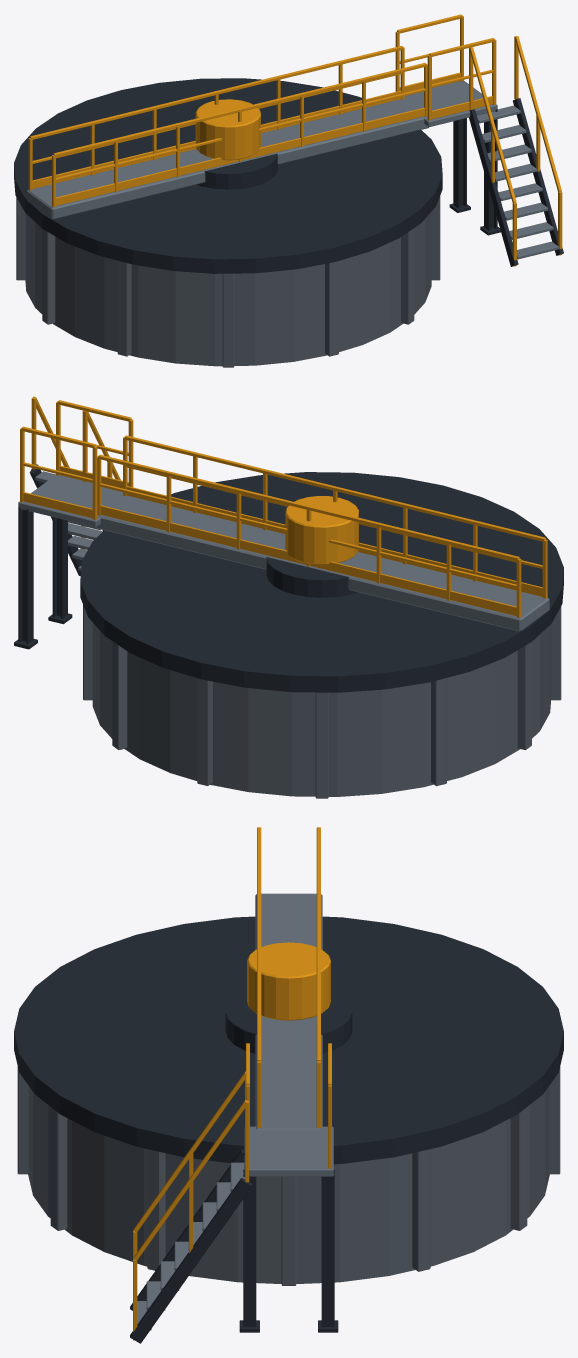
File: thickener_tk201.glb
3 renders of one model, top to bottom at view 1: azimuth 30°, elevation 25°; view 2: azimuth 150°, elevation 25°; view 3: azimuth 270°, elevation 25°, orthographic. The views are drawn at different scales.
Parts seen in each view (by area): view 1: TK201_AccessColA_BasePlate; view 2: TK201_AccessColA_BasePlate; view 3: TK201_AccessColA_BasePlate.
Boxes of the visible parts, x1=… form: TK201_AccessColA_BasePlate: x1=14, y1=14, x2=563, y2=367; TK201_AccessColA_BasePlate: x1=14, y1=396, x2=563, y2=798; TK201_AccessColA_BasePlate: x1=14, y1=827, x2=563, y2=1343.
Bounding box in the file's own units: 7.34 × 2.92 × 5.9.
Materials: 1 (1 with a texture image).
